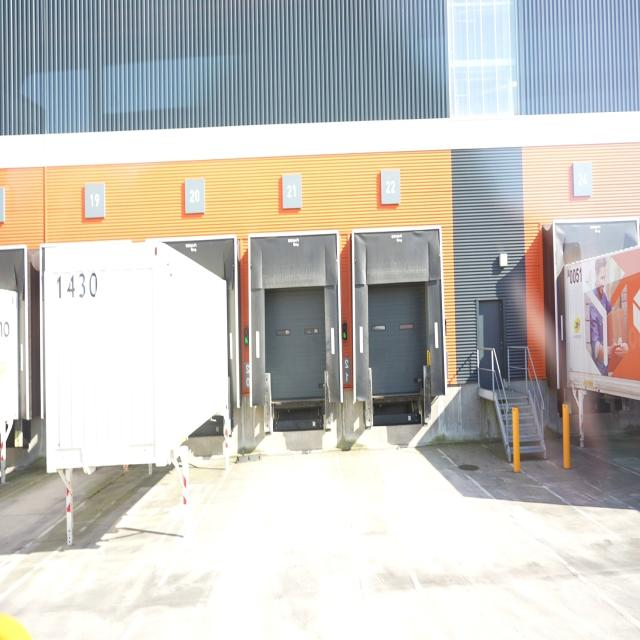Code: (54, 265, 102, 306), (564, 260, 587, 294)
